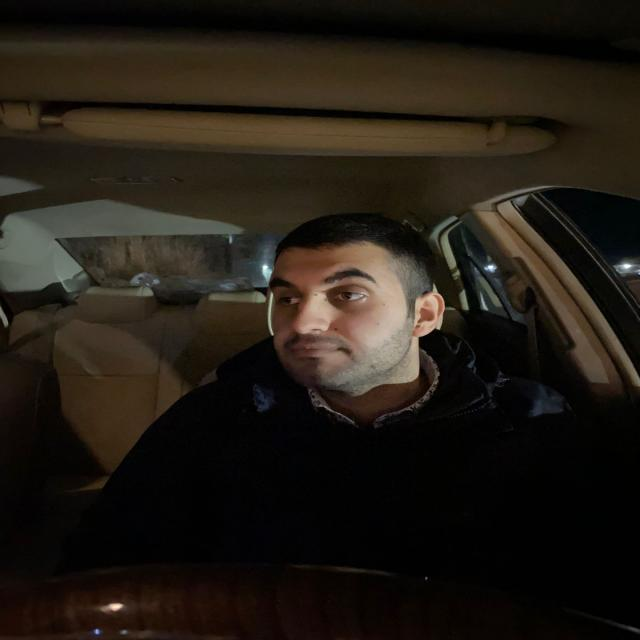person: (253, 219, 452, 401)
